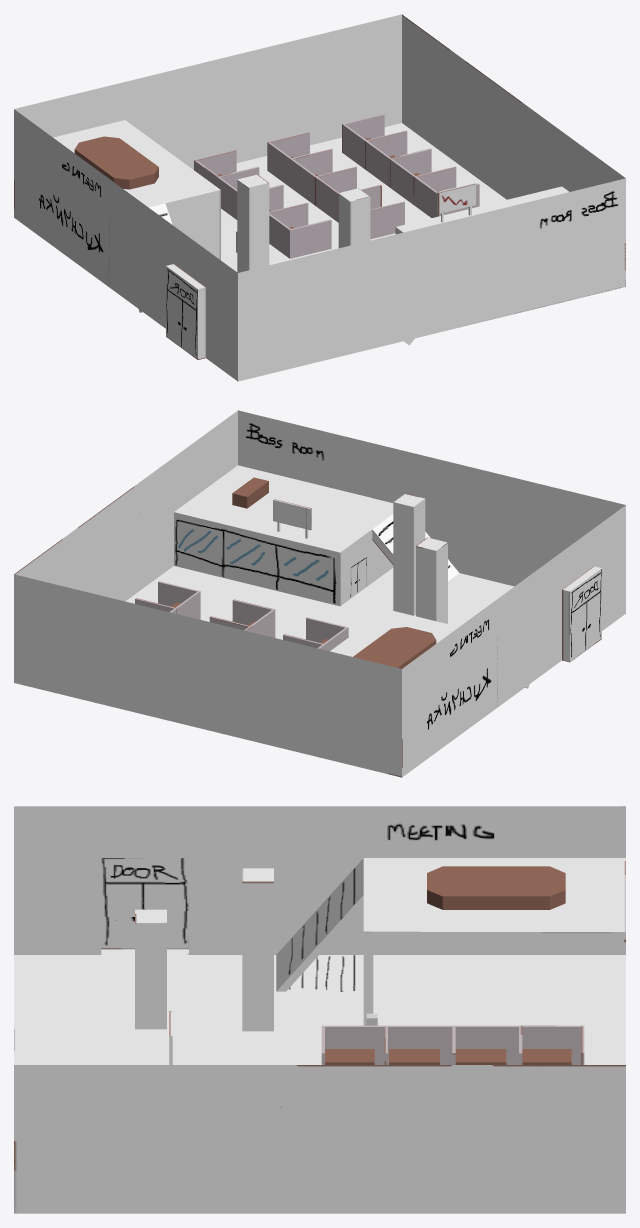
Rendered from arena blockout.fbx.
3 renders of one model, top to bottom at view 1: azimuth 30°, elevation 25°; view 2: azimuth 150°, elevation 25°; view 3: azimuth 270°, elevation 25°, orthographic. The views are drawn at different scales.
Parts seen in each view (by area): view 1: Map; view 2: Map; view 3: Map.
Boxes of the visible parts, bbox=[...] form: Map: bbox=[14, 14, 625, 381]; Map: bbox=[14, 410, 625, 777]; Map: bbox=[14, 806, 625, 1213].
Bounding box in the file's own units: 2934 × 849 × 2874.
